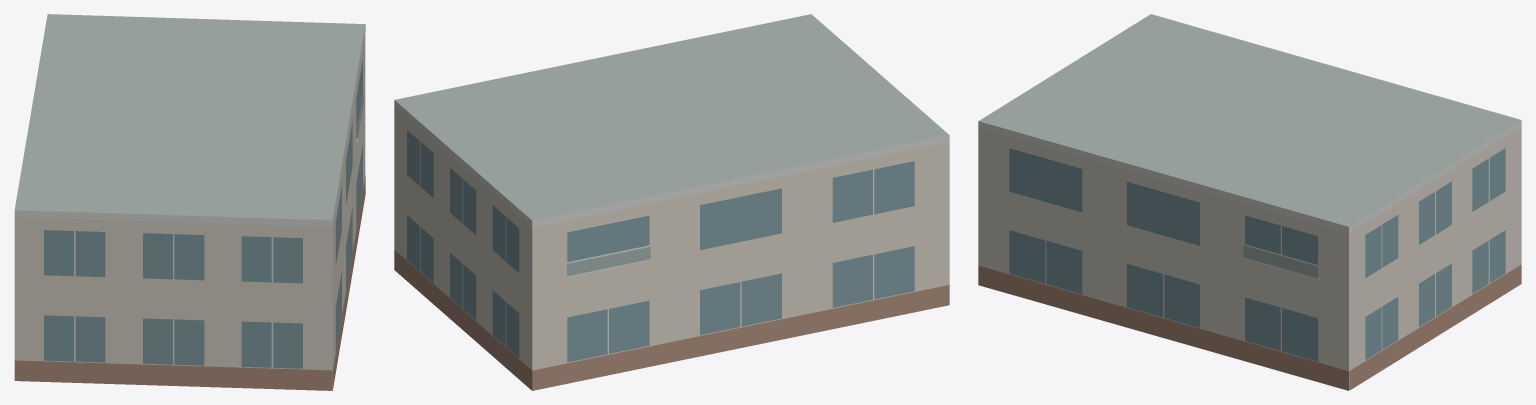
File: survey-upis-32771661.glb
The picture shows the model from 3 angles, left to right: view 1: azimuth 30°, elevation 25°; view 2: azimuth 150°, elevation 25°; view 3: azimuth 270°, elevation 25°; orthographic projection. The views are drawn at different scales.
Parts seen in each view (by area): view 1: survey-upis-32771661.tmp; view 2: survey-upis-32771661.tmp; view 3: survey-upis-32771661.tmp.
Boxes of the visible parts, <box> form: survey-upis-32771661.tmp: <box>14,14,365,390</box>; survey-upis-32771661.tmp: <box>394,14,949,390</box>; survey-upis-32771661.tmp: <box>978,14,1521,390</box>.
Size of the model in its own units: 16.99 by 6.1 by 18.31.
